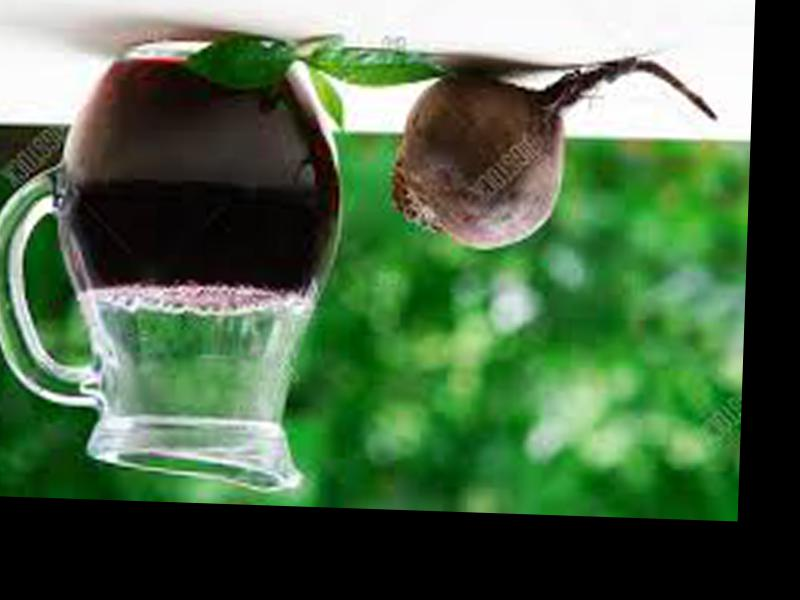Beet: (392, 48, 715, 253)
